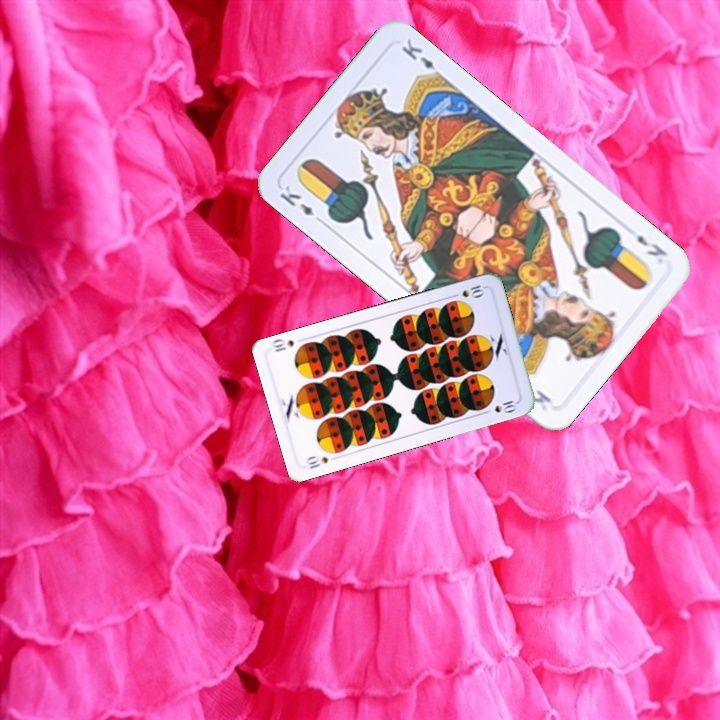EK: (275, 181, 327, 227), (632, 230, 670, 259)
S10: (447, 281, 487, 301), (302, 452, 331, 471)
